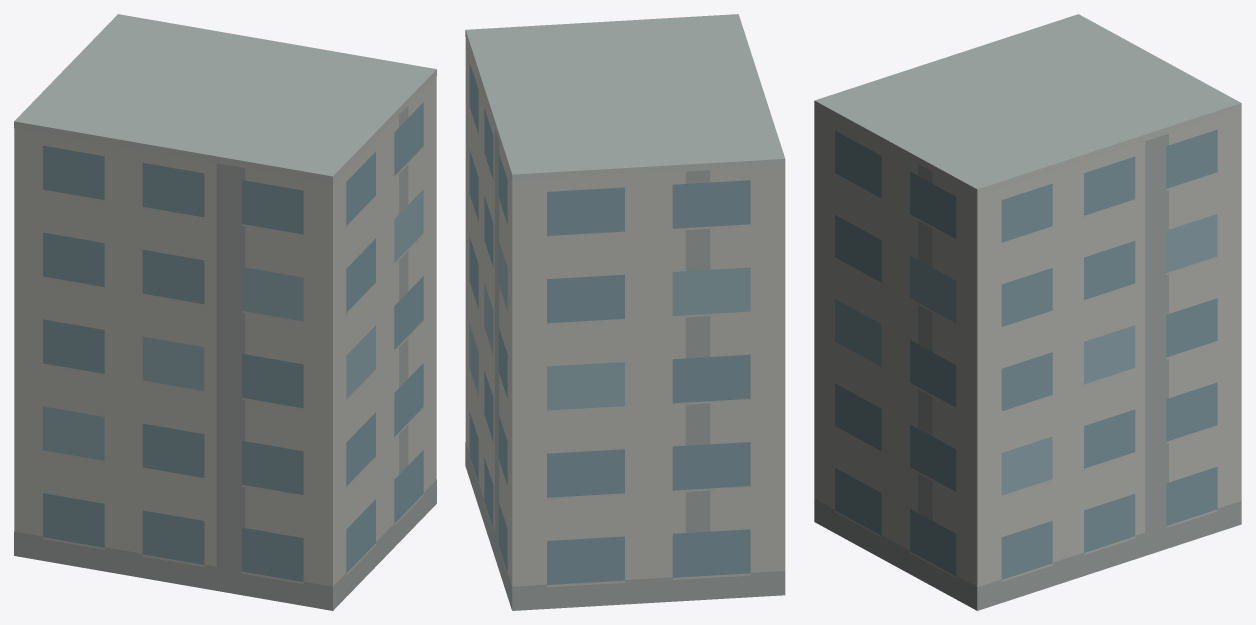
File: residential-b0ac0f00-6e29-408b-a02e-a60b2c8cf1dc.glb
The picture shows the model from 3 angles, left to right: view 1: azimuth 30°, elevation 25°; view 2: azimuth 150°, elevation 25°; view 3: azimuth 270°, elevation 25°; orthographic projection. The views are drawn at different scales.
Visible parts, largest first — view 1: residential-b0ac0f00-6e29-408b-a02e-a60b2c8cf1dc.tmp; view 2: residential-b0ac0f00-6e29-408b-a02e-a60b2c8cf1dc.tmp; view 3: residential-b0ac0f00-6e29-408b-a02e-a60b2c8cf1dc.tmp.
Part boxes in pixels (x1,y1,x2,y2): residential-b0ac0f00-6e29-408b-a02e-a60b2c8cf1dc.tmp: [14, 14, 436, 610]; residential-b0ac0f00-6e29-408b-a02e-a60b2c8cf1dc.tmp: [465, 14, 785, 610]; residential-b0ac0f00-6e29-408b-a02e-a60b2c8cf1dc.tmp: [814, 14, 1241, 610].
Bounding box in the file's own units: 13.62 × 15.25 × 14.01.
